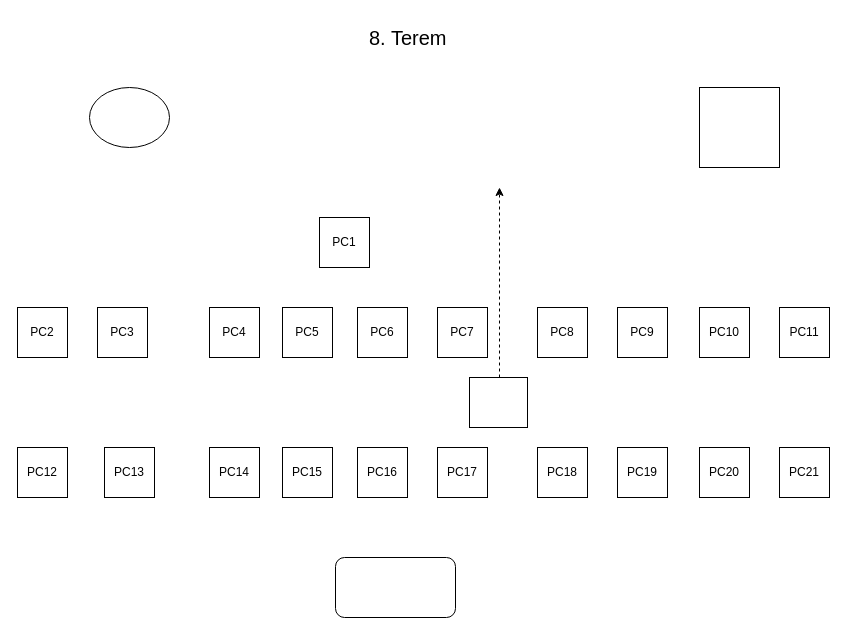
This 847x635 diagram has some shape labels left out. The shapes that lost their labels are listed below. From the top down, each one's centre as x and y in pixels, then its label:
(129,117): R1
(739,127): SW1
(498,402): Projektor
(395,587): Légkondi
